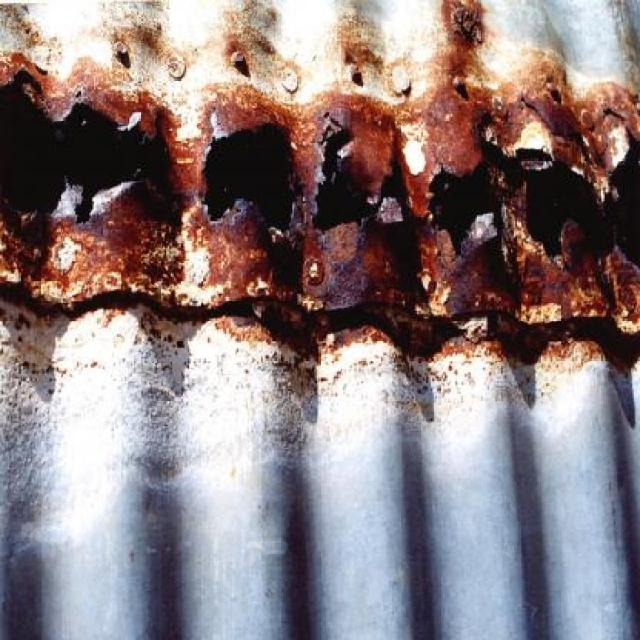corrosion: (3, 1, 640, 382)
